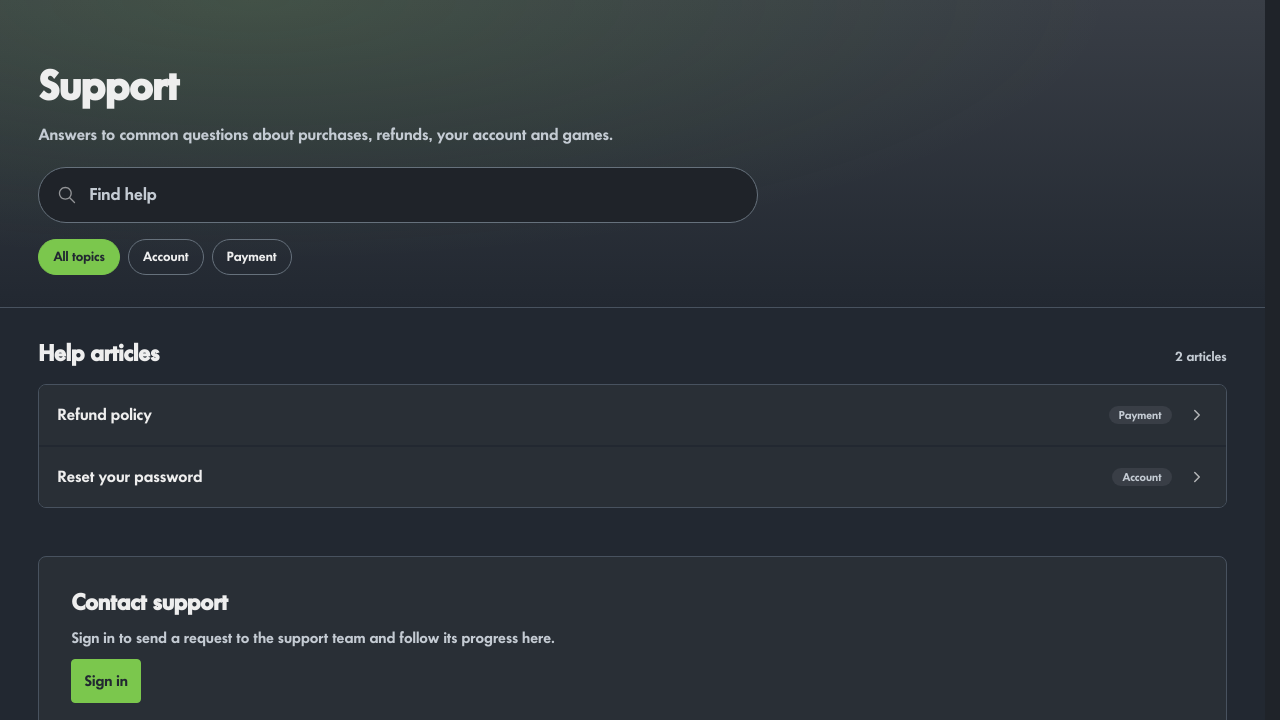
Scenario: filters help articles by a category taken from the articles
The image size is (1280, 720).
Click the button "Account": (166, 257) 128,239 -> 204,275
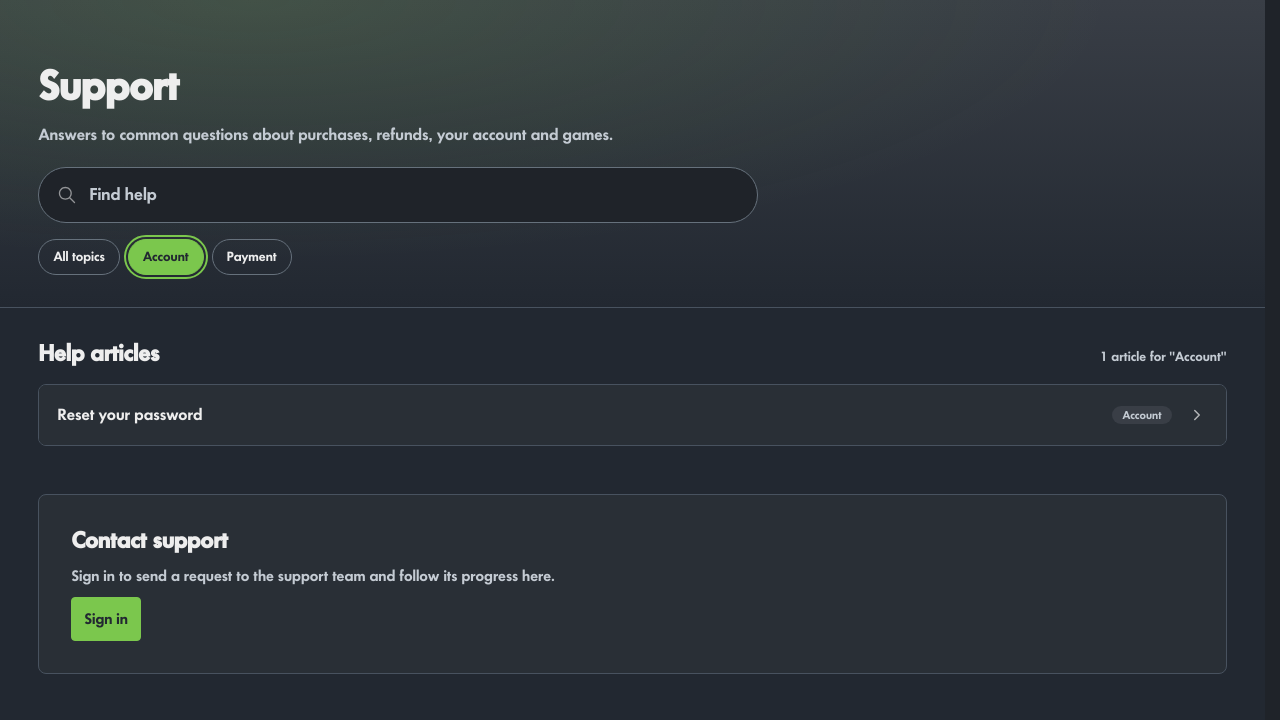
Expected: the button "Reset your password Account" is shown, 39,385 -> 1226,445
Now the button "Refund policy" is gone
